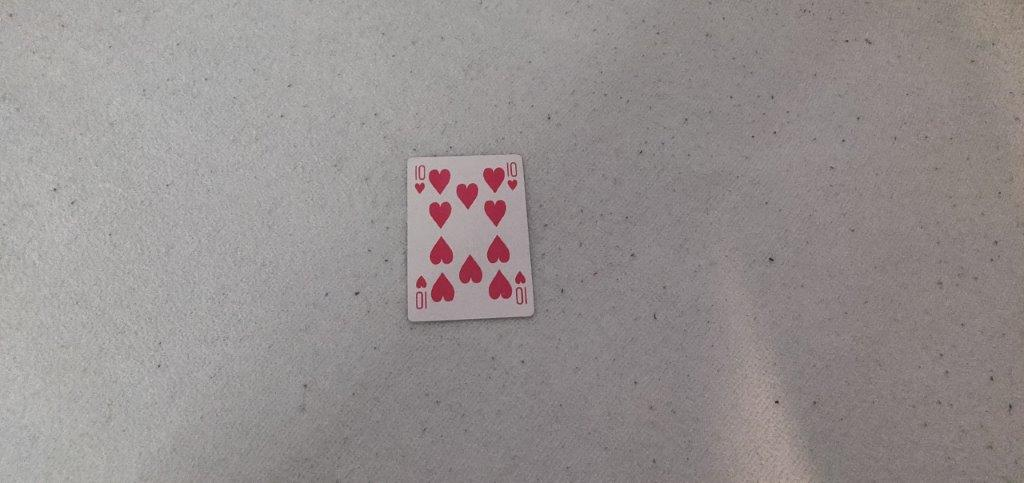10H: (503, 160, 523, 195), (410, 161, 429, 195)
